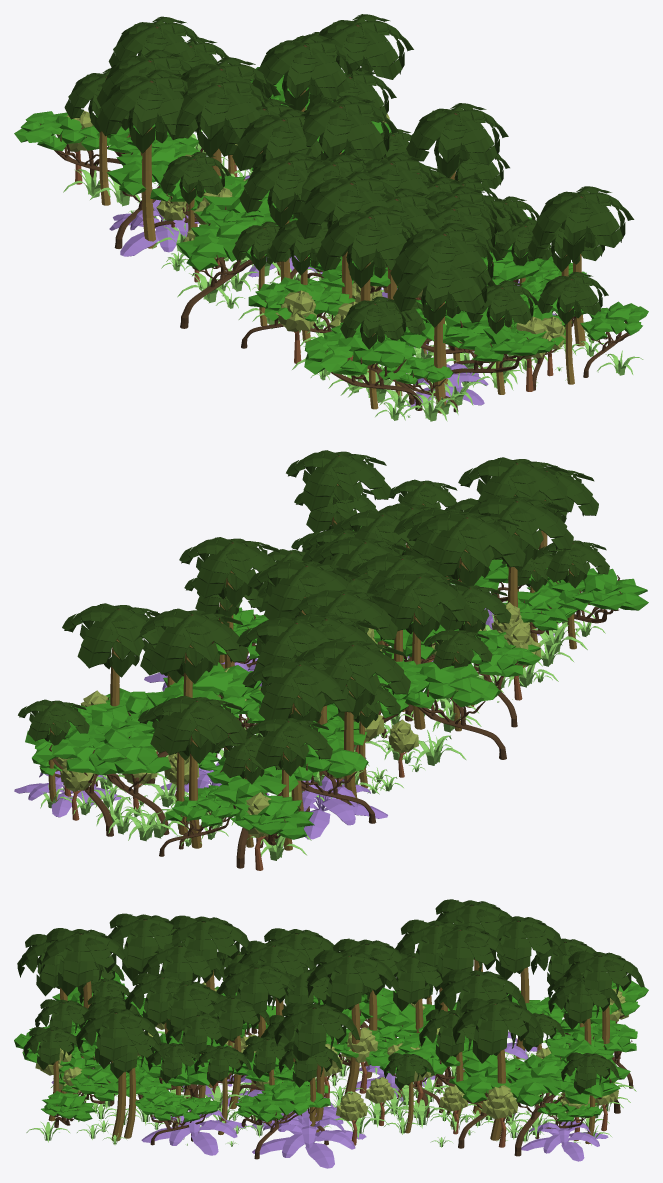
File: jungle_2.dae
3 renders of one model, top to bottom at view 1: azimuth 30°, elevation 25°; view 2: azimuth 150°, elevation 25°; view 3: azimuth 270°, elevation 25°, orthographic. The views are drawn at different scales.
Visible parts, largest first — view 1: tree1.227, tree1.221, tree1.208, tree1.246, tree1.245, tree1.206, tree1.202, tree1.243, tree1.210, tree2.323, tree1.235, tree1.217 (+43 smaller); view 2: tree1.235, tree1.246, tree1.227, tree1.217, tree1.214, tree1.247, tree1.238, tree1.245, tree1.208, tree2.344, tree1.221, tree1.243 (+46 smaller); view 3: tree1.243, tree1.217, tree1.210, tree1.208, tree1.245, tree1.214, tree1.235, plant1.121, tree1.221, tree1.211, tree1.247, tree1.215 (+66 smaller).
Part boxes in pixels (bbox=[...]): tree1.227: bbox=[96, 69, 198, 248]; tree1.221: bbox=[316, 206, 419, 372]; tree1.208: bbox=[532, 186, 634, 346]; tree1.246: bbox=[252, 34, 362, 111]; tree1.245: bbox=[406, 103, 508, 179]; tree1.206: bbox=[164, 77, 272, 175]; tree1.202: bbox=[393, 260, 495, 413]; tree1.243: bbox=[301, 95, 399, 160]; tree1.210: bbox=[390, 222, 503, 384]; tree2.323: bbox=[304, 332, 422, 410]; tree1.235: bbox=[296, 171, 398, 298]; tree1.217: bbox=[319, 14, 413, 79]; tree1.235: bbox=[407, 511, 525, 588]; tree1.246: bbox=[139, 608, 247, 697]; tree1.227: bbox=[295, 639, 410, 805]; tree1.217: bbox=[62, 603, 164, 706]; tree1.214: bbox=[242, 659, 355, 811]; tree1.247: bbox=[145, 695, 247, 848]; tree1.238: bbox=[367, 573, 472, 729]; tree1.245: bbox=[179, 537, 281, 668]; tree1.208: bbox=[286, 450, 390, 525]; tree2.344: bbox=[397, 660, 506, 759]; tree1.221: bbox=[464, 495, 573, 607]; tree1.243: bbox=[248, 559, 358, 619]; tree1.243: bbox=[307, 950, 399, 1094]; tree1.217: bbox=[452, 998, 543, 1140]; tree1.210: bbox=[37, 928, 131, 1058]; tree1.208: bbox=[76, 1007, 161, 1141]; tree1.245: bbox=[274, 1002, 359, 1132]; tree1.214: bbox=[484, 916, 566, 1058]; tree1.235: bbox=[161, 915, 249, 990]; plant1.121: bbox=[252, 1110, 366, 1168]; tree1.221: bbox=[108, 913, 185, 1027]; tree1.211: bbox=[216, 962, 294, 1037]; tree1.247: bbox=[563, 951, 644, 1046]; tree1.215: bbox=[418, 924, 509, 1072].
Size of the model in its own units: 5.44 by 9.64 by 2.43.
